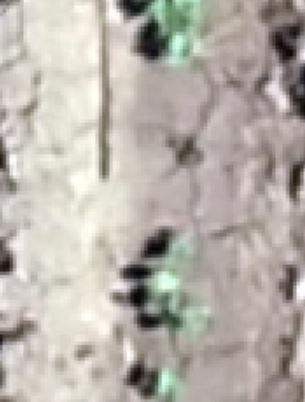cotton: (168, 18, 192, 51), (149, 271, 179, 296), (159, 370, 180, 400), (175, 308, 207, 327), (155, 2, 173, 33), (168, 1, 200, 16), (169, 236, 190, 258), (164, 291, 179, 315)
